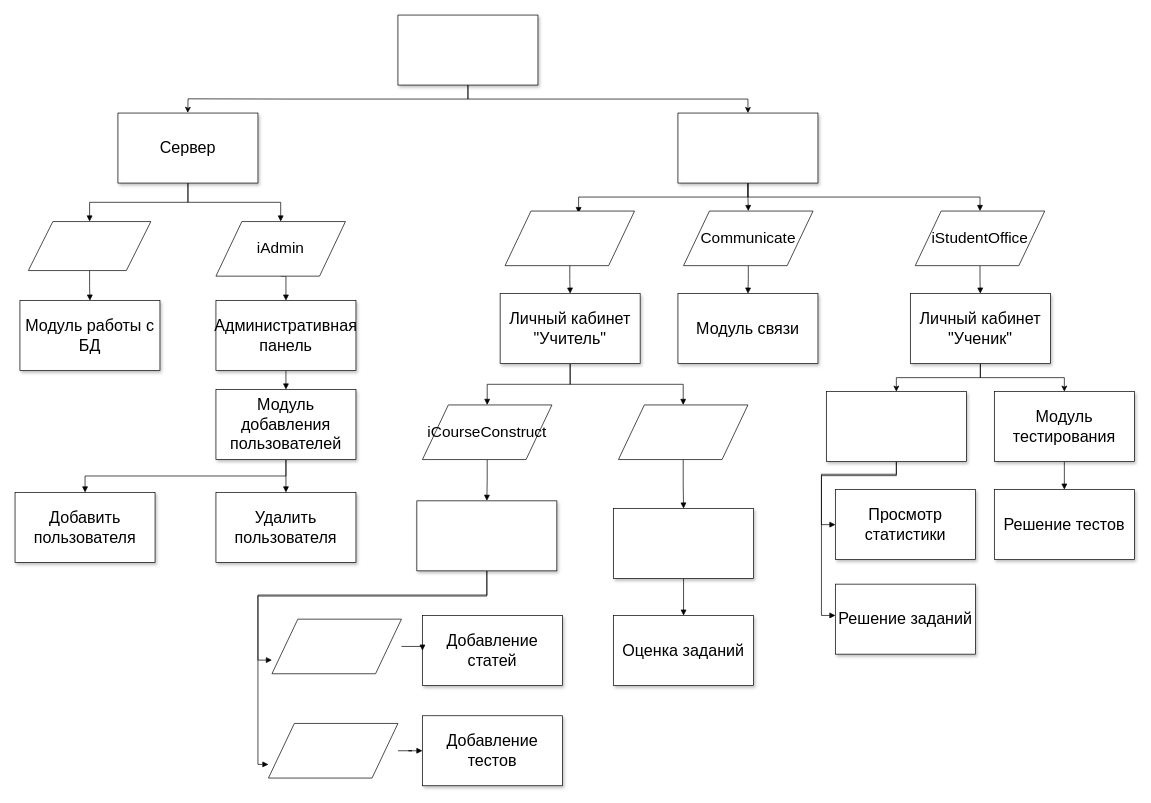
Some shapes in this 1151 by 803 pixel diagram are drawn without their labels. Here are the shapes that lost their labels. From the top down, the centre of each, then its label:
[468,51]: Система дистанционного обучения
[748,149]: Пользовательский интерфейс
[89,246]: iBD
[569,238]: iTeacherOffice
[683,432]: iGiveMark
[897,427]: Модуль прохождения курсов
[487,536]: Модуль создания курсов
[684,544]: Модуль проверки заданий
[336,646]: iArticle
[333,750]: iTestConstruct
